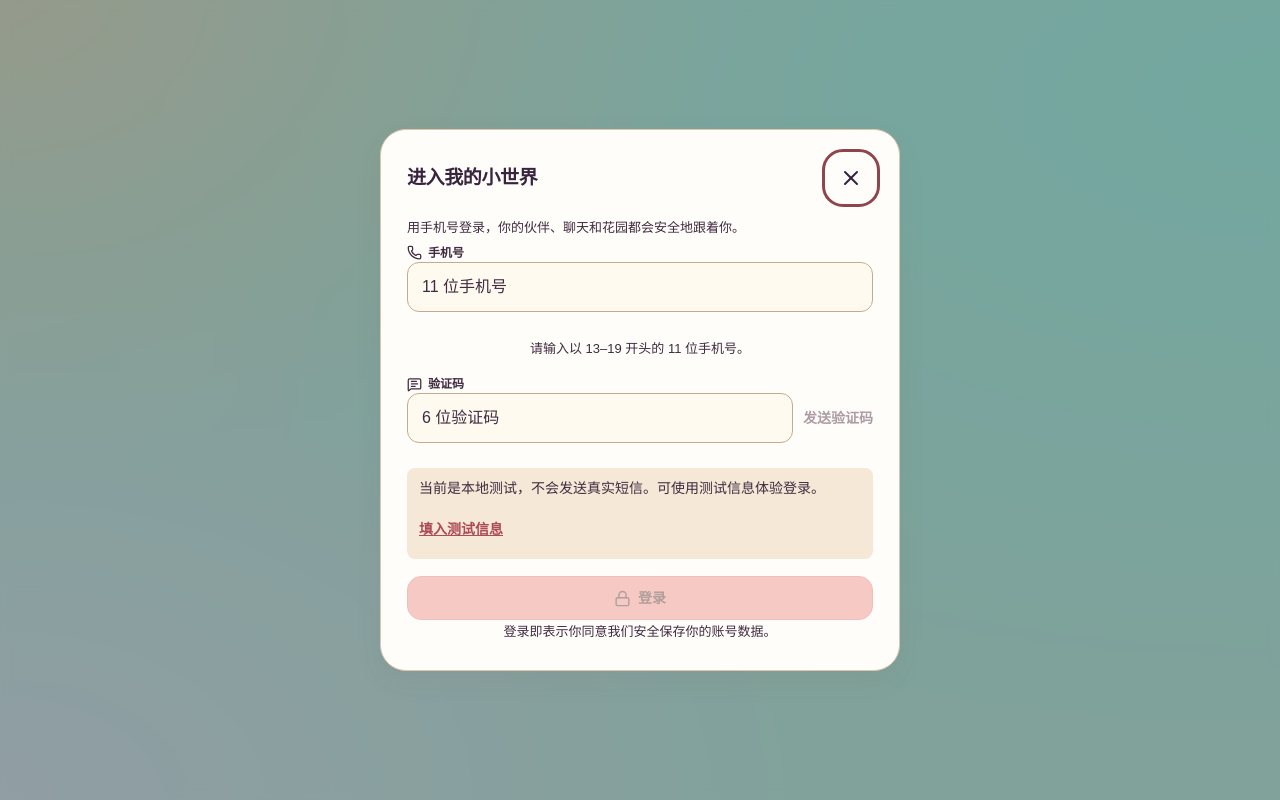
Test case: offers an explicit local test code without pretending to send a message
Expected: the element showing "当前是本地测试，不会发送真实短信。可使用测试信息体验登录。 填入测试信息" is shown, [407, 468, 873, 559]
Click the button "填入测试信息". click: click(461, 529)
box: [419, 507, 503, 551]
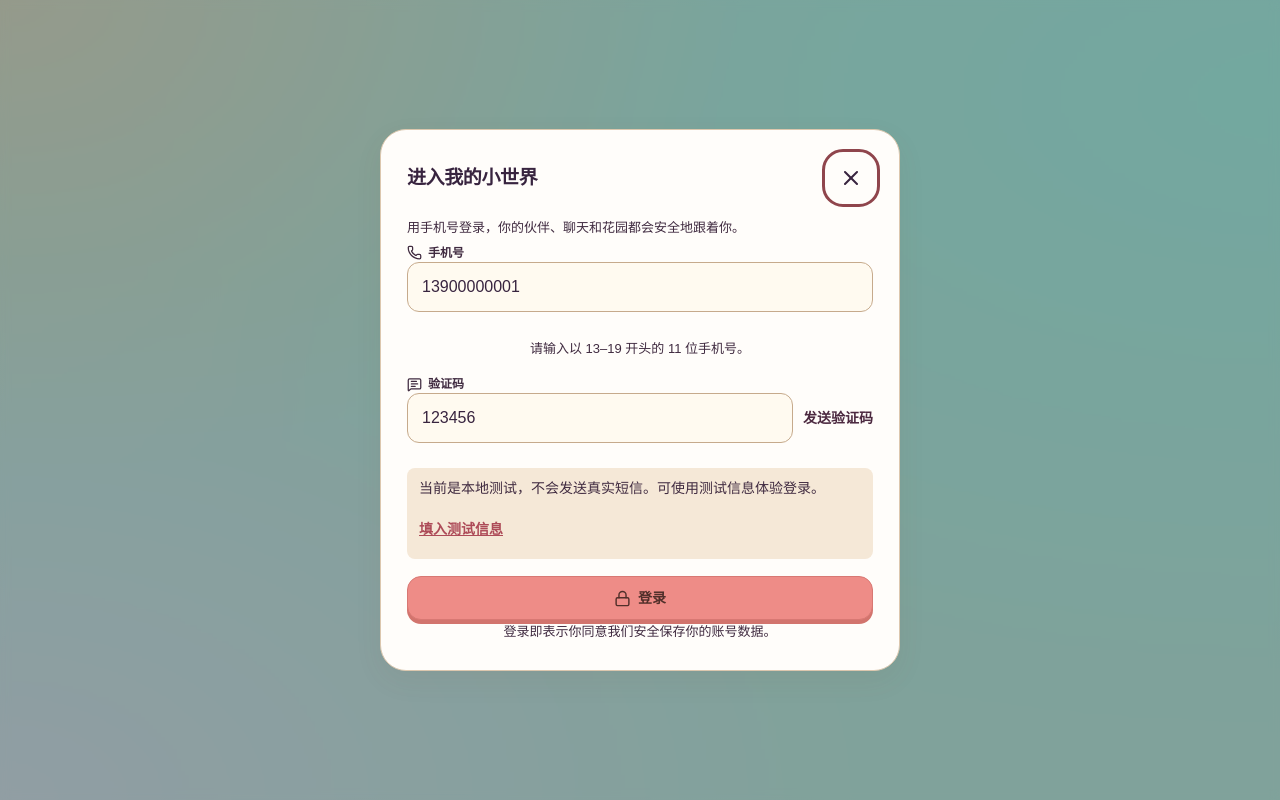
Expected: the field with placeholder "11 位手机号" holds "13900000001", [407, 262, 873, 312]
Expected: the field with placeholder "6 位验证码" holds "123456", [407, 393, 793, 443]
